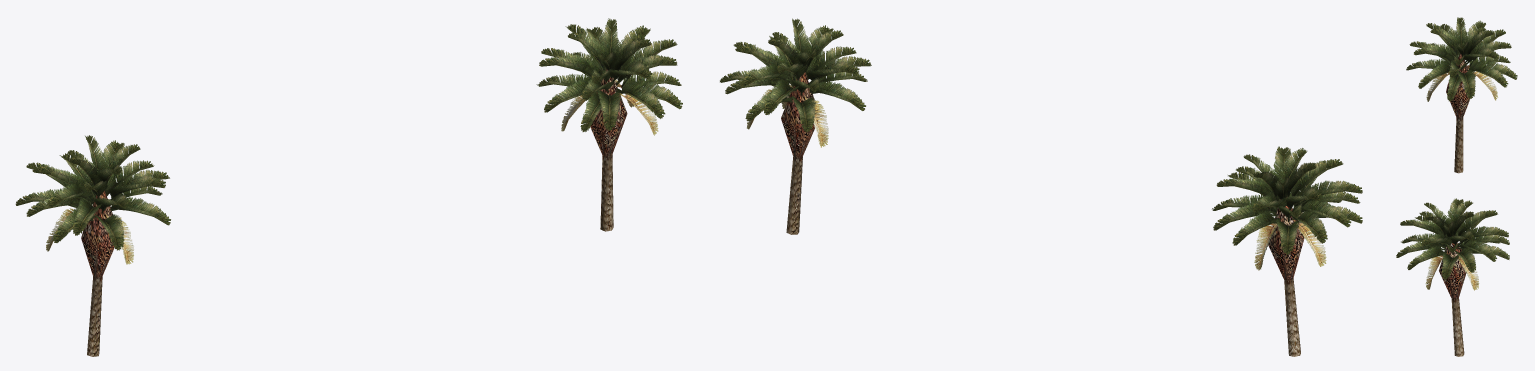
File: kart_civiccentre_palms.dae
3 renders of one model, left to right at view 1: azimuth 30°, elevation 25°; view 2: azimuth 150°, elevation 25°; view 3: azimuth 270°, elevation 25°, orthographic. The views are drawn at different scales.
Visible parts, largest first — view 1: palm; view 2: palm; view 3: palm.
Boxes of the visible parts, box(x1,y1,x2,y2) form: palm: box(15, 18, 682, 356); palm: box(720, 18, 1362, 356); palm: box(1396, 17, 1517, 356).
Bounding box in the file's own units: 33.67 × 7.81 × 10.27.
